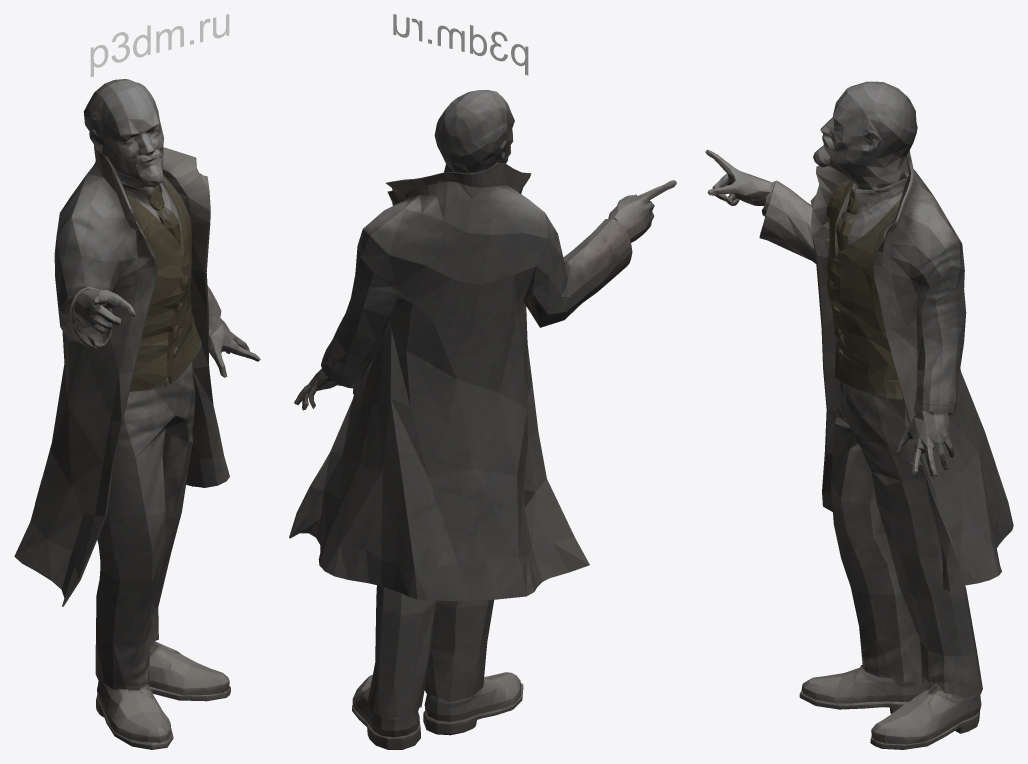
The model's file is p3dm.ru_Lenin.obj.
3 renders of one model, left to right at view 1: azimuth 30°, elevation 25°; view 2: azimuth 150°, elevation 25°; view 3: azimuth 270°, elevation 25°, orthographic. The views are drawn at different scales.
Parts seen in each view (by area): view 1: Lenin, Text001; view 2: Lenin, Text001; view 3: Lenin.
Part boxes in pixels (box(x1,y1,x2,y2)): Lenin: box(14, 79, 260, 749); Text001: box(90, 14, 229, 77); Lenin: box(289, 90, 676, 749); Text001: box(393, 14, 528, 75); Lenin: box(705, 81, 1013, 749).
Bounding box in the file's own units: 1.25 × 3.05 × 1.26.
